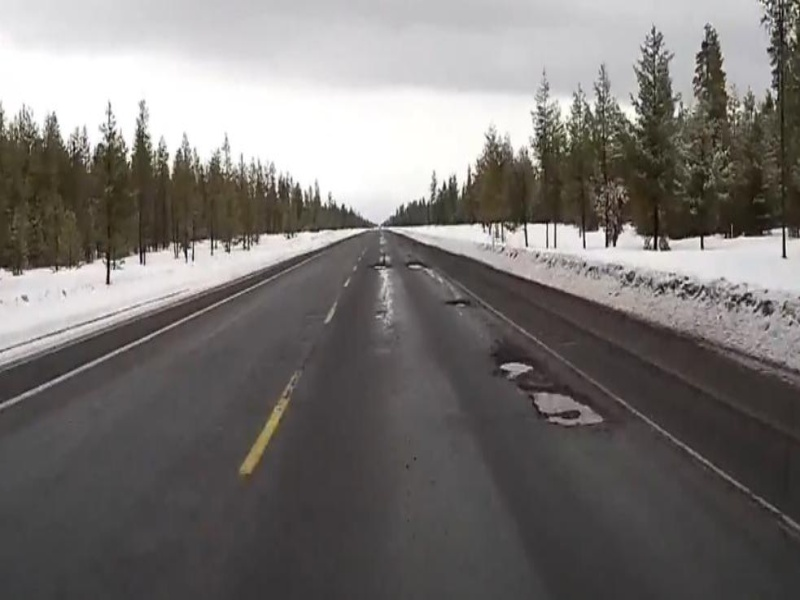pothole: (521, 384, 606, 433), (496, 354, 537, 379)
